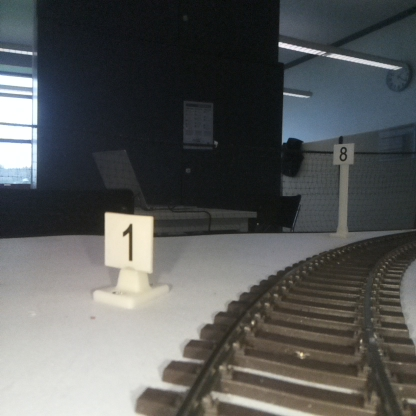white-info-8: (334, 143, 354, 236)
white-stop-1: (104, 216, 153, 302)
